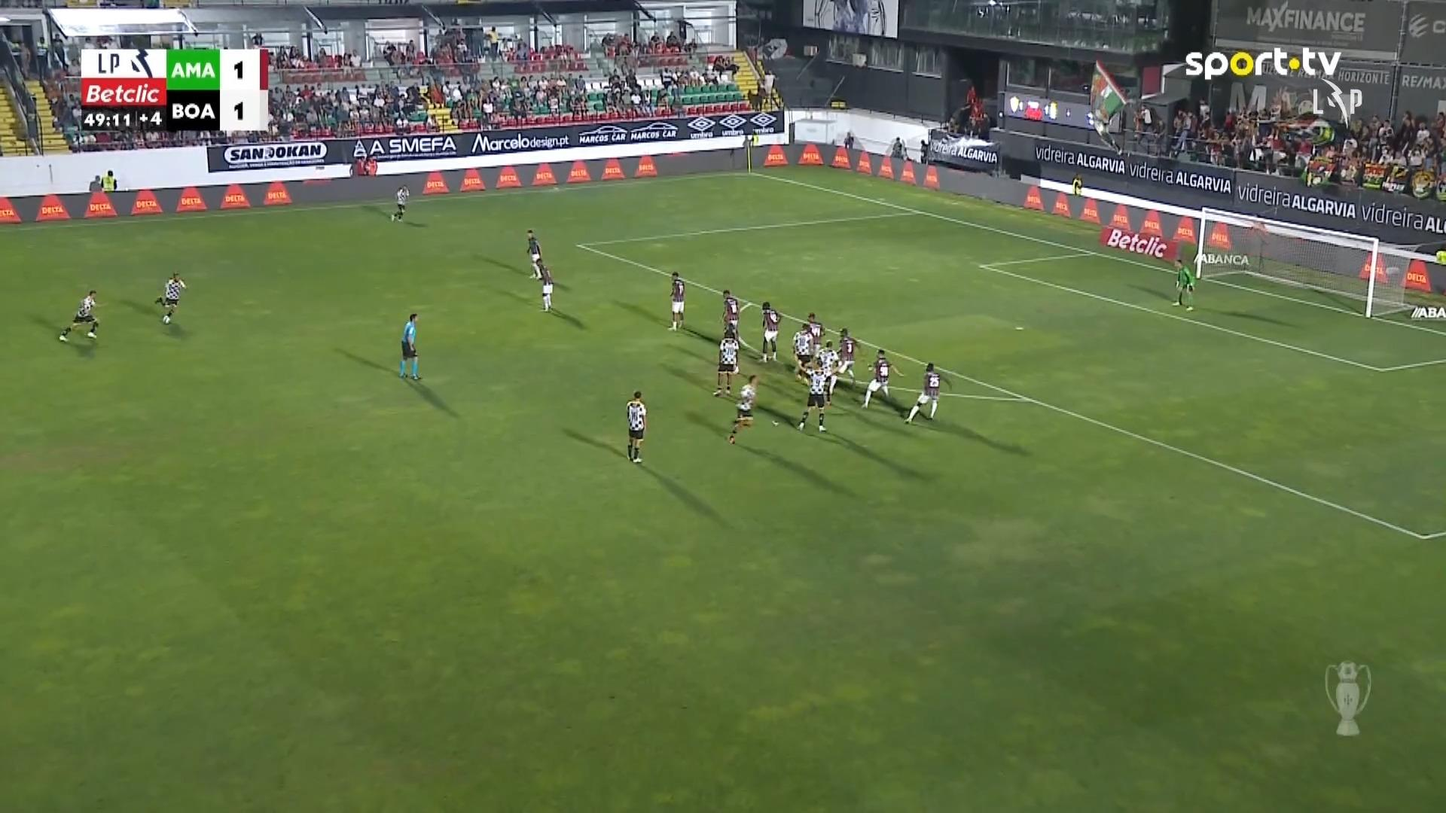ball: (917, 394, 928, 405), (162, 315, 170, 324)
goalkeeper: (1171, 257, 1195, 309)
player: (903, 361, 943, 424), (860, 348, 901, 408), (795, 362, 829, 432), (726, 373, 758, 445), (57, 289, 99, 343), (712, 327, 740, 396), (154, 271, 187, 324), (624, 389, 647, 463), (815, 339, 840, 403), (834, 327, 859, 385), (758, 300, 780, 363), (792, 322, 815, 379), (721, 288, 742, 346), (667, 270, 685, 331), (536, 262, 554, 311), (525, 228, 542, 279), (389, 184, 410, 221), (805, 311, 824, 347)
referee: (398, 312, 421, 379)
